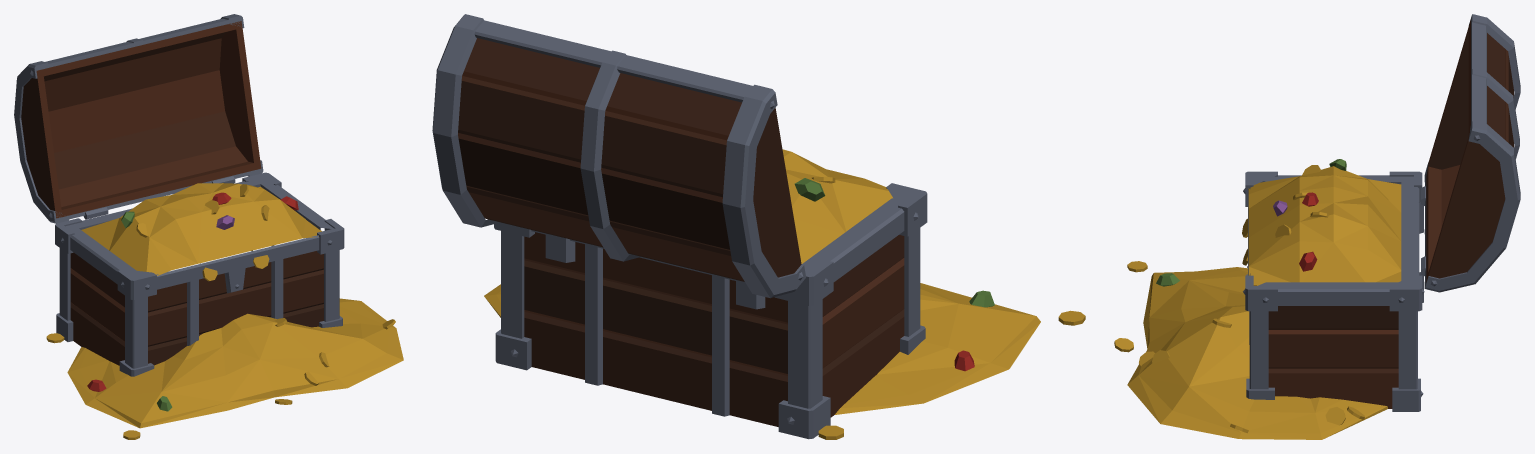
Rendered from overflowing-treasure-chest-3d6ee0.glb.
The picture shows the model from 3 angles, left to right: view 1: azimuth 30°, elevation 25°; view 2: azimuth 150°, elevation 25°; view 3: azimuth 270°, elevation 25°; orthographic projection. The views are drawn at different scales.
Visible parts, largest first — view 1: object 1, lid; view 2: object 1, lid; view 3: object 1, lid.
Boxes of the visible parts, x1,y1,x2,y2 form: object 1: (46,172,403,439); lid: (14,14,263,223); object 1: (484,149,1085,439); lid: (432,14,805,298); object 1: (1114,159,1425,439); lid: (1424,14,1520,292).
Size of the model in its own units: 1.51 by 1.13 by 1.47.
